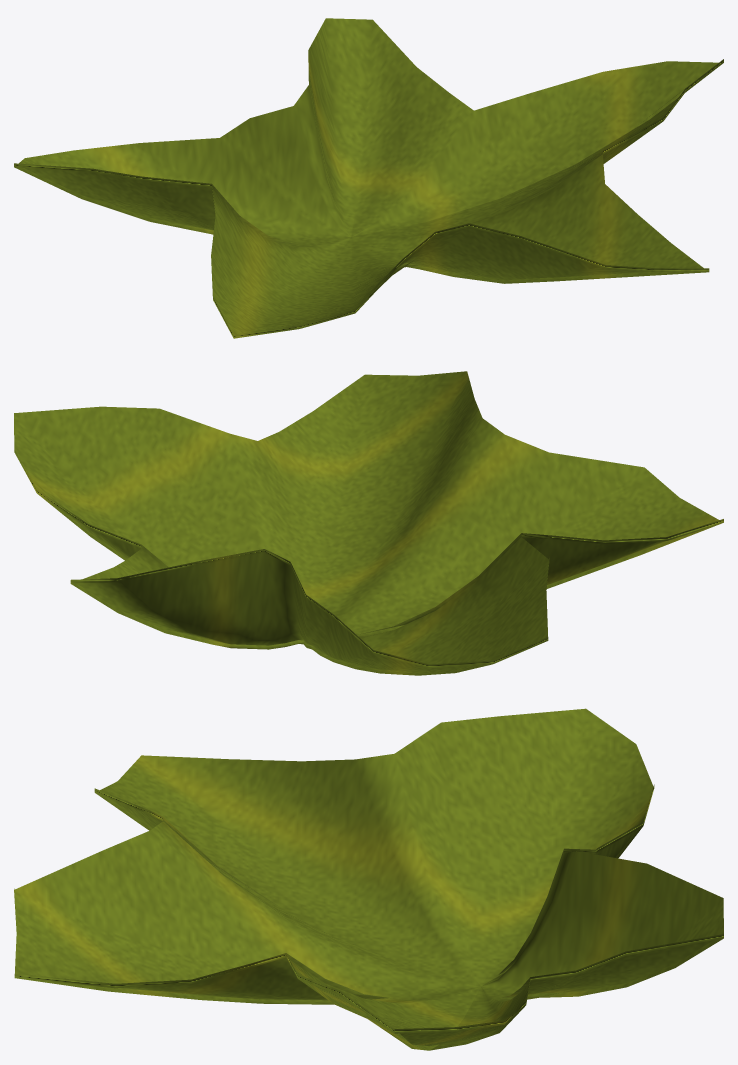
The model's file is leaf-yellow.glb.
3 renders of one model, top to bottom at view 1: azimuth 30°, elevation 25°; view 2: azimuth 150°, elevation 25°; view 3: azimuth 270°, elevation 25°, orthographic. The views are drawn at different scales.
Size of the model in its own units: 0.6535 by 0.129 by 0.5744.
1 material, 1 textured.
